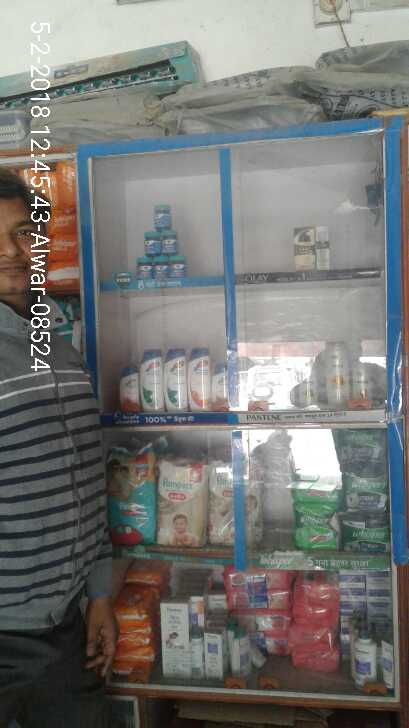vicks: (136, 201, 186, 282)
